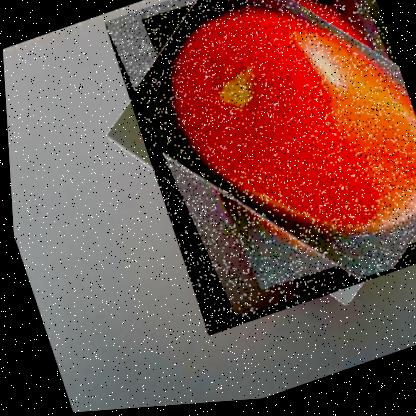tomato: (101, 0, 415, 347)
